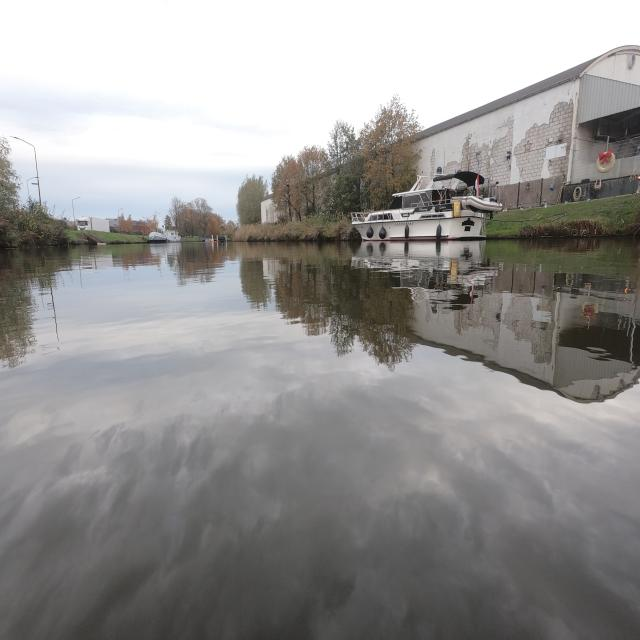boat: (148, 229, 180, 242)
grass: (486, 192, 639, 235)
reed: (0, 167, 69, 247), (235, 214, 357, 241)
sky: (1, 0, 639, 219)
tree: (360, 95, 419, 209), (272, 147, 326, 221), (327, 120, 364, 214), (298, 145, 328, 215)
water: (1, 238, 639, 639)
